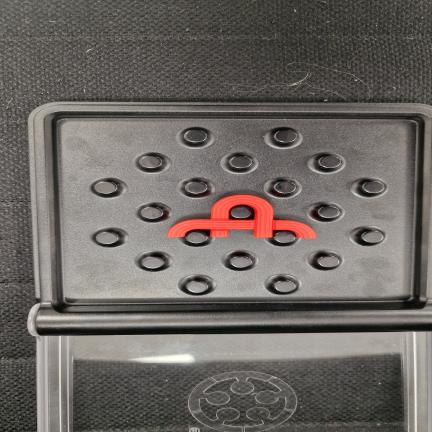E_Red: (167, 195, 315, 238)
board: (28, 102, 432, 335)
hinge: (29, 306, 431, 331)
pin: (184, 129, 207, 144), (274, 129, 297, 144), (229, 155, 252, 170), (94, 181, 118, 195), (140, 206, 164, 220), (318, 155, 341, 169), (139, 155, 162, 169), (361, 230, 384, 244), (96, 231, 119, 245), (141, 256, 165, 269), (185, 181, 207, 195), (273, 181, 296, 194), (317, 206, 340, 219), (273, 231, 296, 244), (185, 231, 208, 244), (317, 255, 340, 268), (273, 280, 296, 293), (186, 280, 209, 293), (362, 181, 384, 194), (230, 255, 252, 268), (231, 206, 252, 219)
